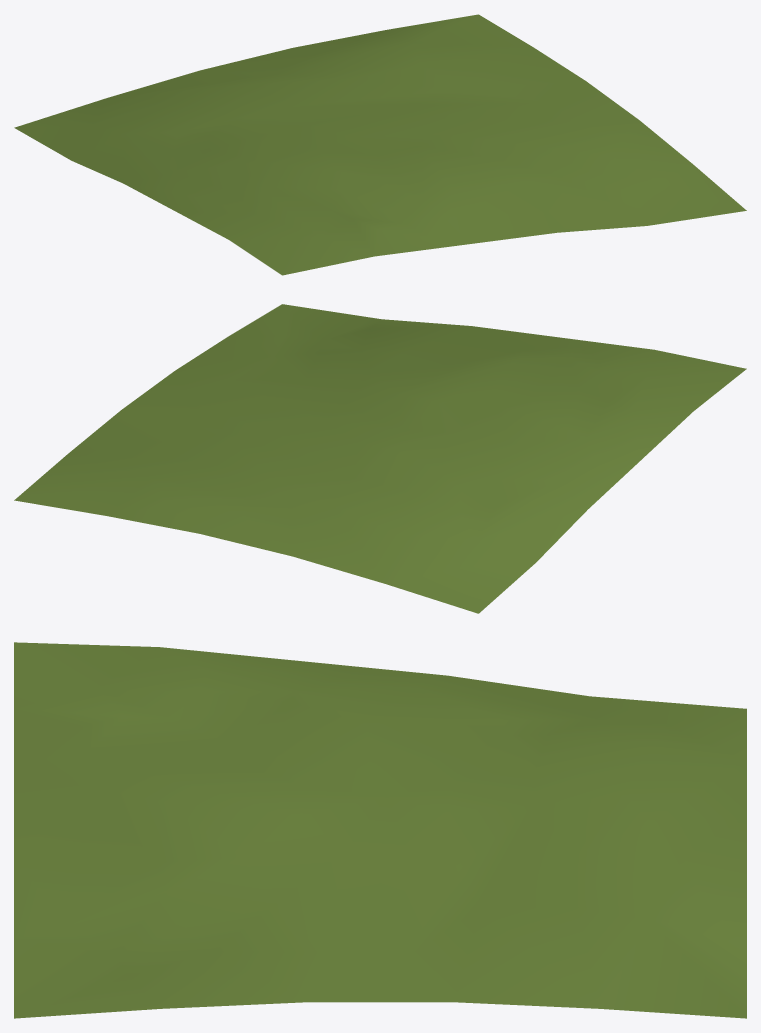
The model's file is rpgpp_ag_terrain_hill_01b_10x10m.fbx.
The picture shows the model from 3 angles, top to bottom: view 1: azimuth 30°, elevation 25°; view 2: azimuth 150°, elevation 25°; view 3: azimuth 270°, elevation 25°; orthographic projection. The views are drawn at different scales.
Parts seen in each view (by area): view 1: rpgpp_ag_terrain_hill_01b_10x10m; view 2: rpgpp_ag_terrain_hill_01b_10x10m; view 3: rpgpp_ag_terrain_hill_01b_10x10m.
Part boxes in pixels (x1,y1,x2,y2): rpgpp_ag_terrain_hill_01b_10x10m: (14,14,746,275); rpgpp_ag_terrain_hill_01b_10x10m: (14,304,746,613); rpgpp_ag_terrain_hill_01b_10x10m: (14,642,746,1018).
Bounding box in the file's own units: 10 × 1 × 10.
